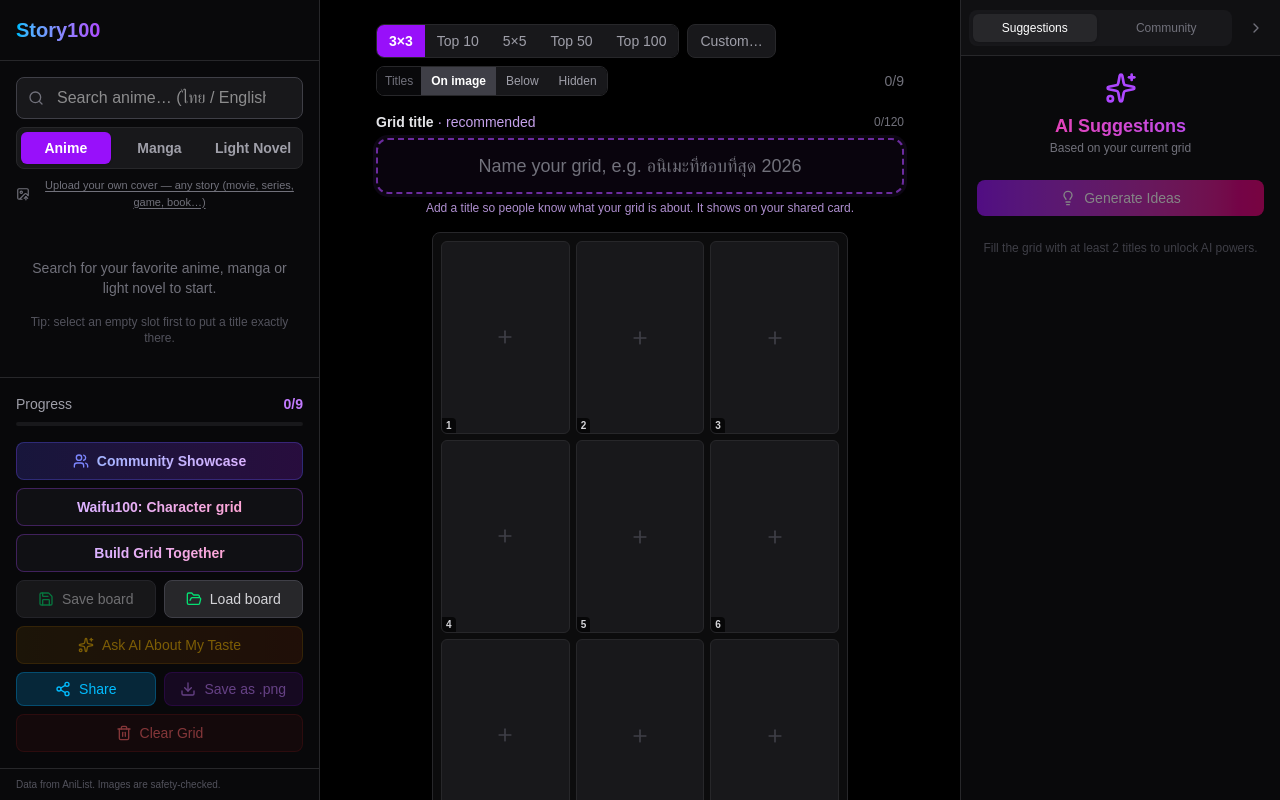
right panel tabs: Suggestions / Community › Community fetches once on first open, kind=story, paginates with Load more, shows story grids only
This screenshot has width=1280, height=800.
Click the tab "Community".
click(1166, 28)  # box [1104,14,1228,42]
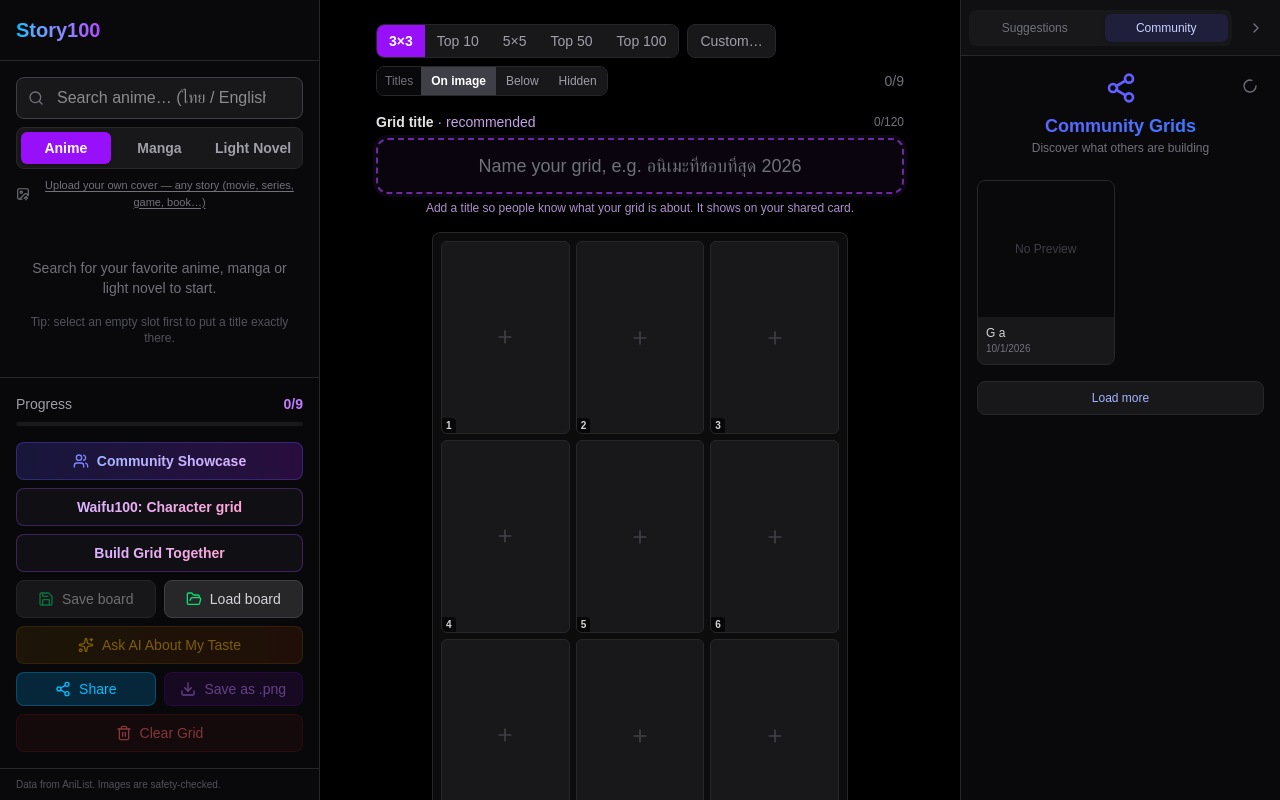
Now the heading "G a" is shown, box [986,326,1005,340]
switching away and back: no refetch
Click the tab "Suggestions".
click(1035, 28)  # box [973,14,1096,42]
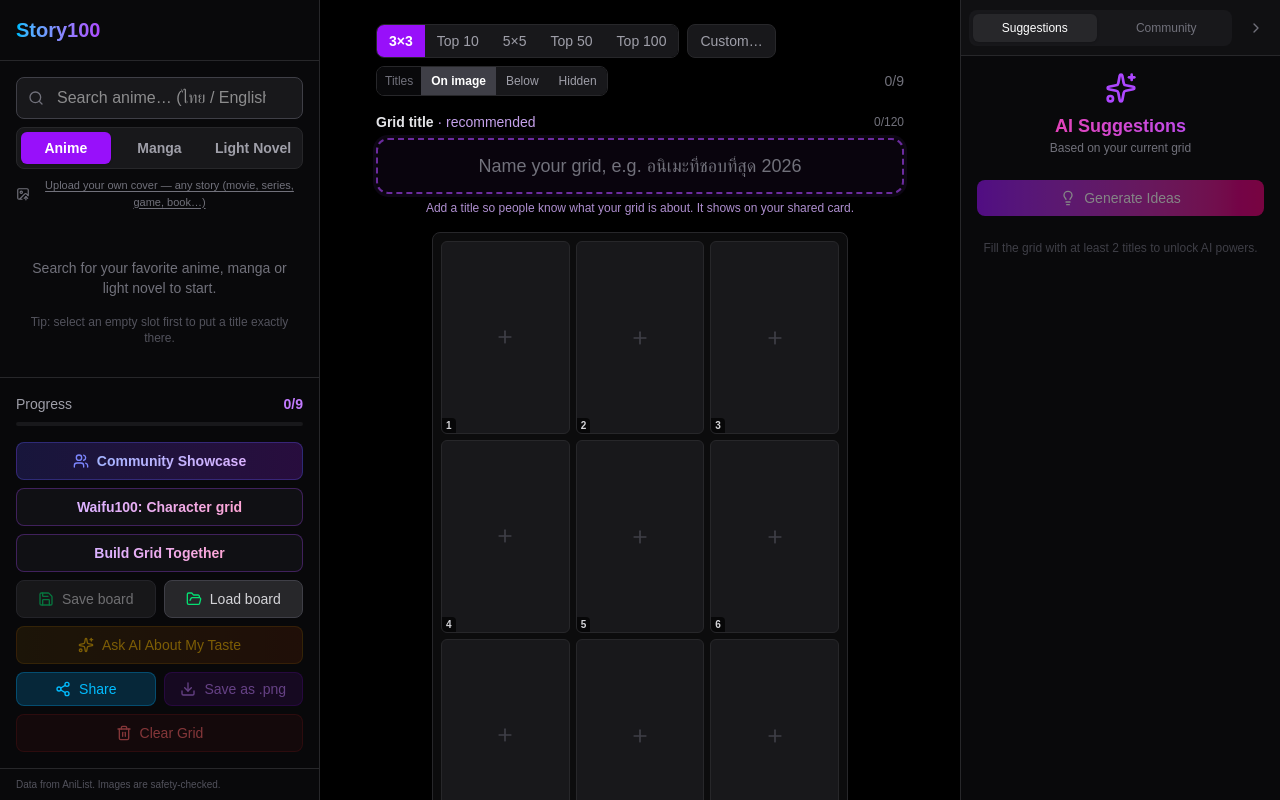
Click the tab "Community".
click(1166, 28)  # box [1104,14,1228,42]
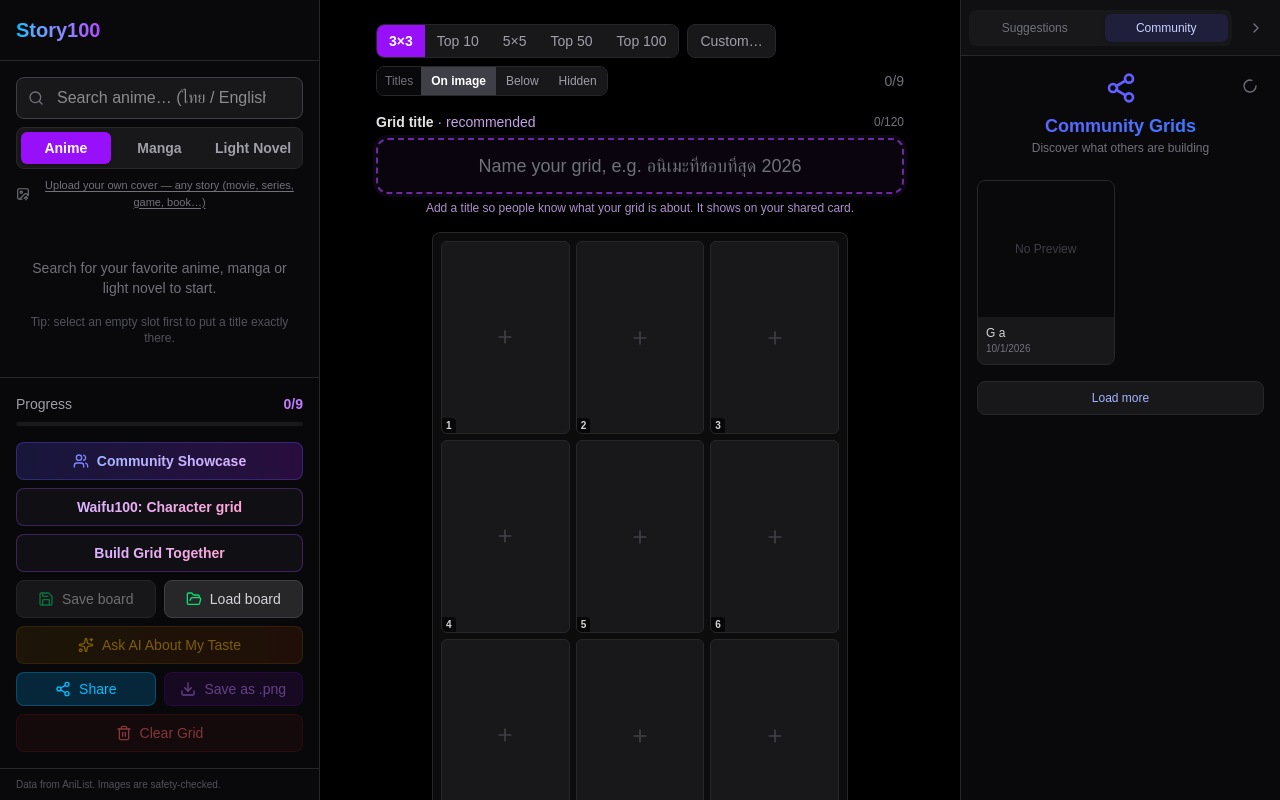
Click the button "Load more".
click(1120, 398)  # box [977,380,1264,414]
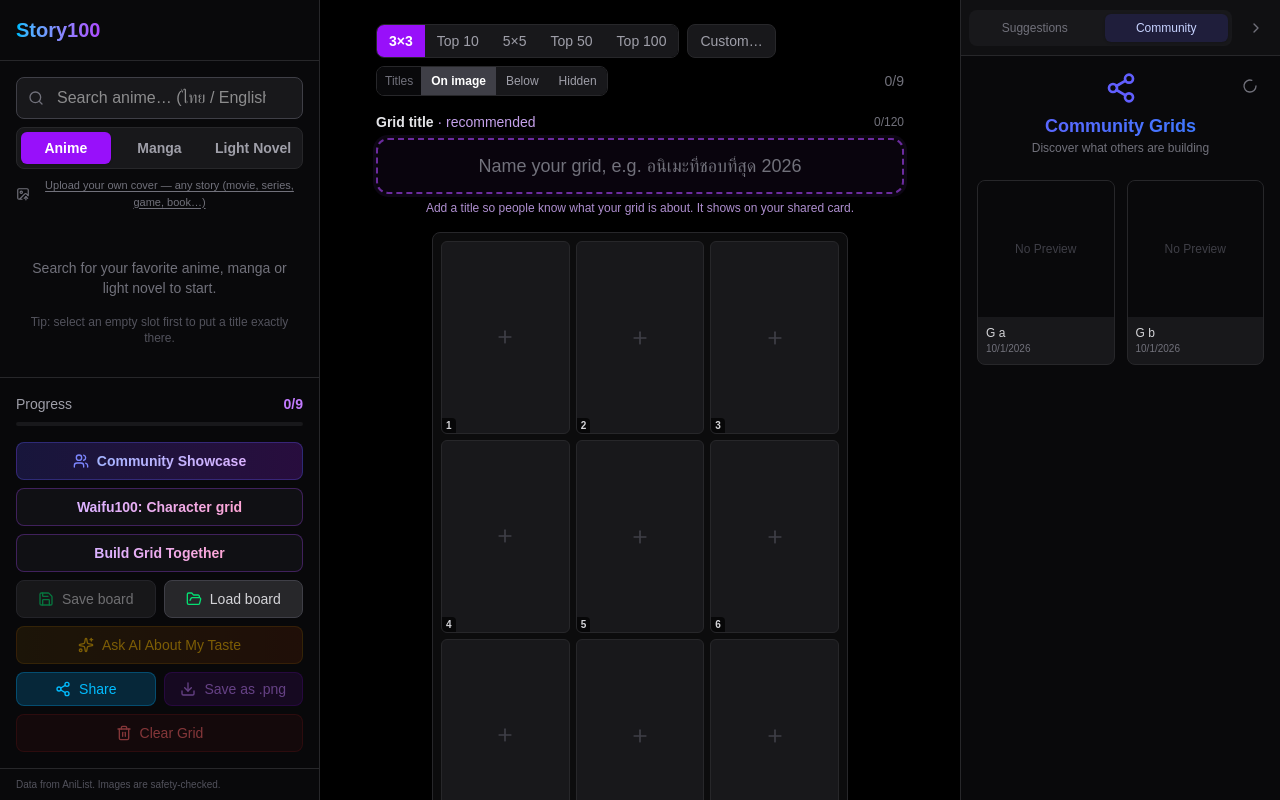
Now the heading "G b" is shown, box [1136,326,1155,340]
Now the button "Load more" is gone
